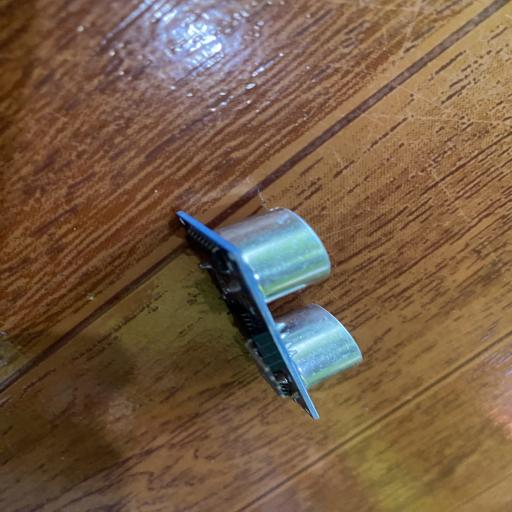Ultrasonic Sensor: (174, 205, 364, 420)
